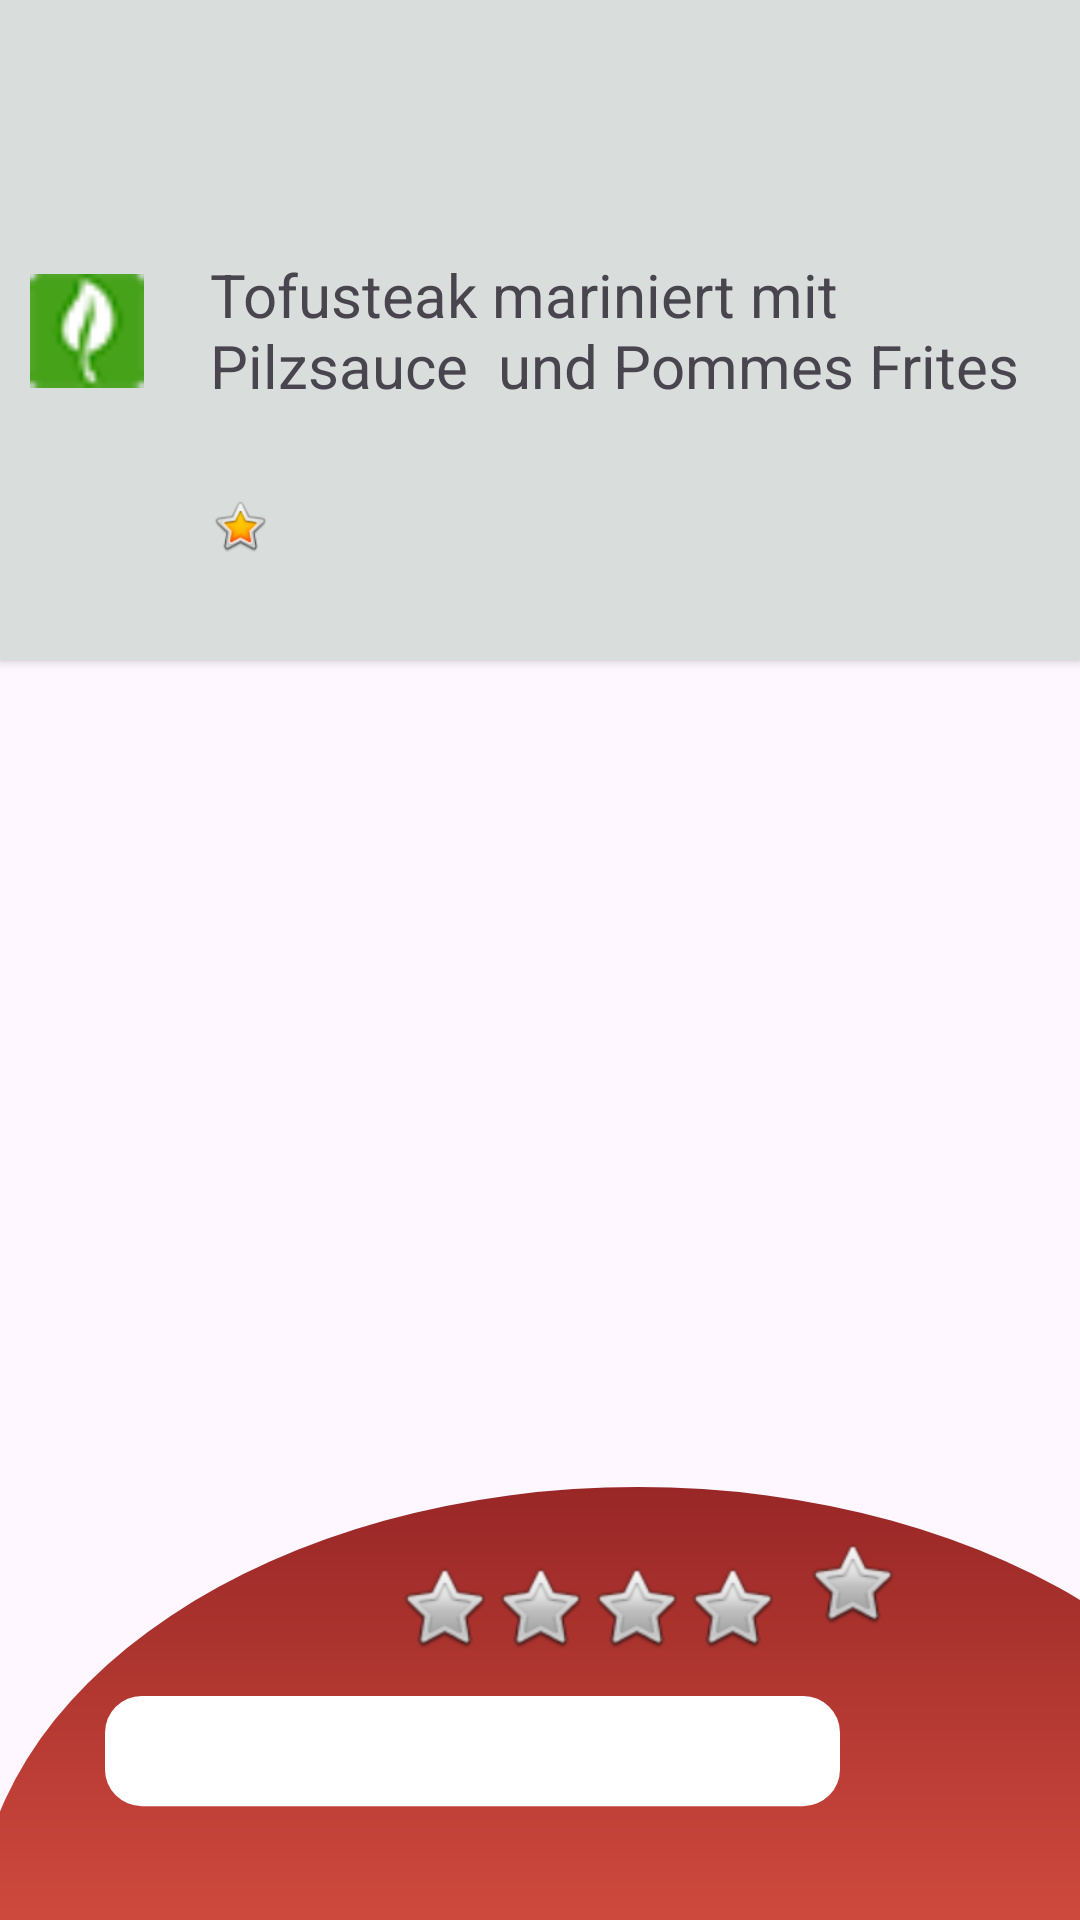

Screen size 1080w x 1920h. Icon name, then its box in pixels as bbox=[x1, y1, x2, y2]:
mensa vegan: bbox=[30, 274, 144, 388]
star off: bbox=[813, 1545, 893, 1622], bbox=[405, 1569, 485, 1646], bbox=[501, 1569, 581, 1646], bbox=[597, 1569, 677, 1646], bbox=[693, 1569, 773, 1646]
star on: bbox=[216, 502, 266, 551]
